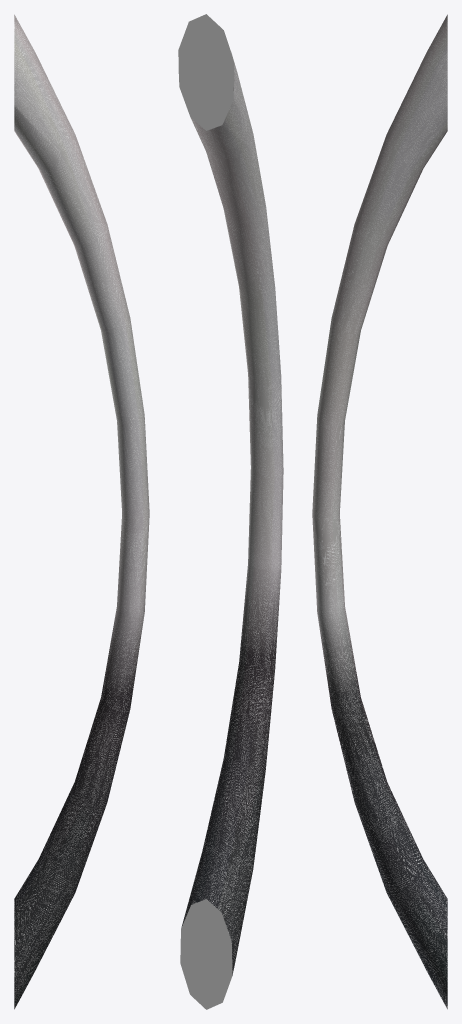
The model's file is original-48.obj.
3 renders of one model, left to right at view 1: azimuth 90°, elevation 25°; view 2: azimuth 150°, elevation 25°; view 3: azimuth 270°, elevation 25°, orthographic.
Parts seen in each view (by area): view 1: _3021_1_1/_3021_1/mesh38/mesh38-geometry#mesh38-geometry; view 2: _3021_1_1/_3021_1/mesh38/mesh38-geometry#mesh38-geometry; view 3: _3021_1_1/_3021_1/mesh38/mesh38-geometry#mesh38-geometry.
Part boxes in pixels (bbox=[...]): _3021_1_1/_3021_1/mesh38/mesh38-geometry#mesh38-geometry: bbox=[14, 14, 149, 1009]; _3021_1_1/_3021_1/mesh38/mesh38-geometry#mesh38-geometry: bbox=[178, 14, 283, 1009]; _3021_1_1/_3021_1/mesh38/mesh38-geometry#mesh38-geometry: bbox=[312, 14, 447, 1009].
Bounding box in the file's own units: 0.0248 × 0.4219 × 0.052.
